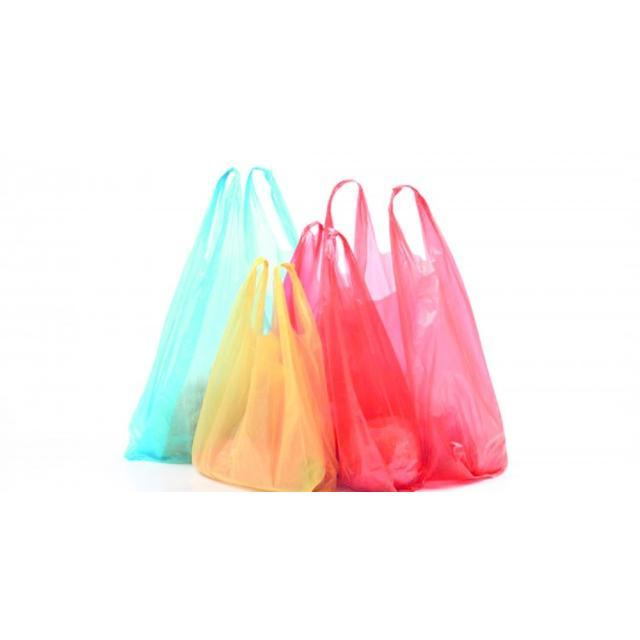Single-layer Plastic: (125, 168, 298, 462), (352, 184, 506, 484), (292, 219, 421, 491), (192, 258, 336, 491), (325, 181, 354, 228)
